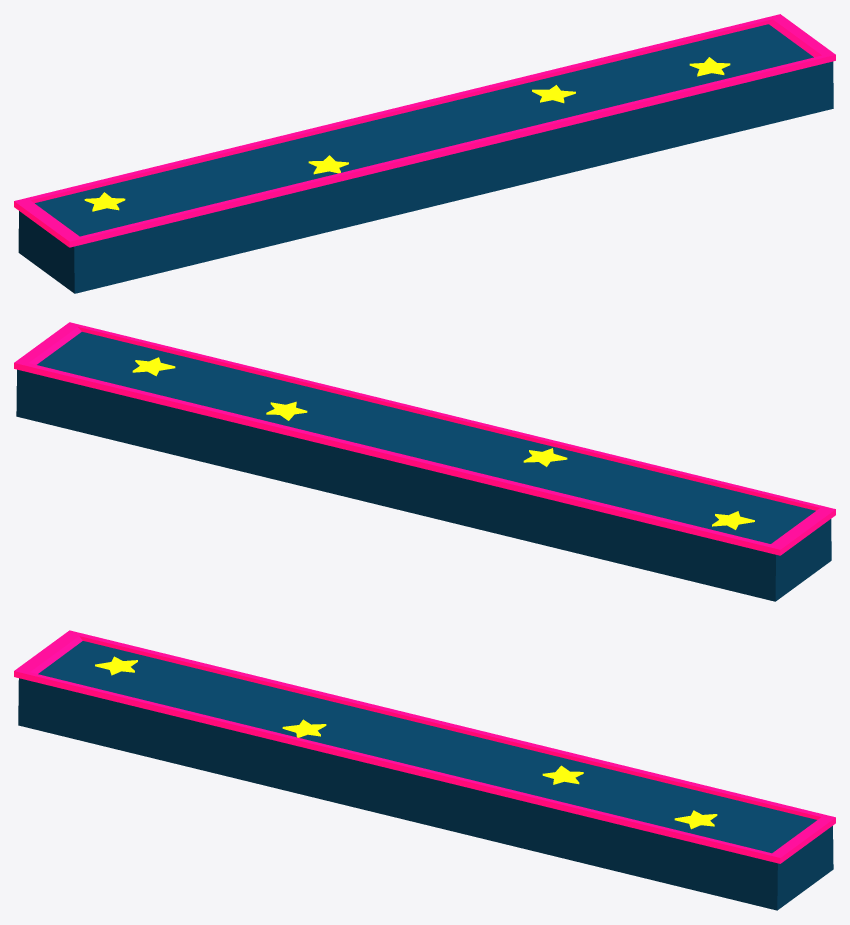
File: spaceChunk3.gltf
3 renders of one model, top to bottom at view 1: azimuth 30°, elevation 25°; view 2: azimuth 150°, elevation 25°; view 3: azimuth 330°, elevation 25°, orthographic.
Visible parts, largest first — view 1: spaceChunk3; view 2: spaceChunk3; view 3: spaceChunk3.
Boxes of the visible parts, left/top/right/bottom form: spaceChunk3: left=14, top=14, right=835, bottom=293; spaceChunk3: left=14, top=322, right=835, bottom=601; spaceChunk3: left=14, top=630, right=835, bottom=910.
Size of what is drawn, in the model's own units: 15.94 by 1.05 by 2.03.
Materials: 1 (1 with a texture image).
